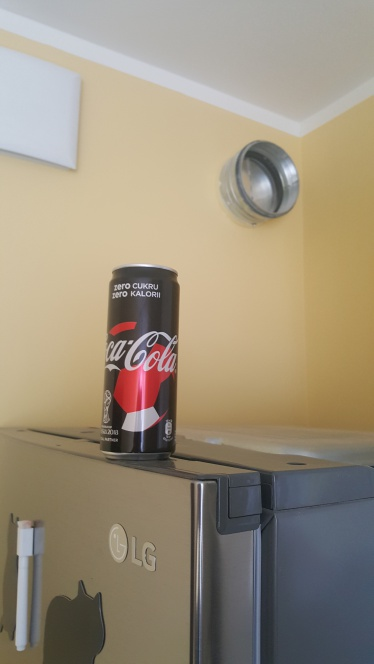colazero: (82, 253, 203, 480)
